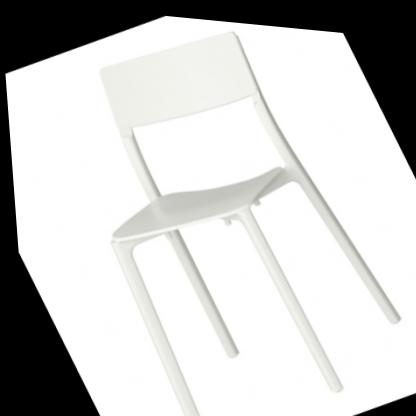Chair: (12, 1, 416, 416)
